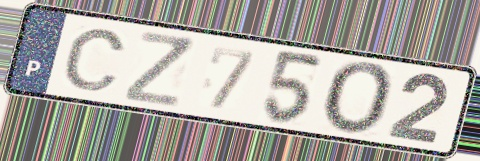2: (384, 70, 453, 148)
5: (258, 46, 327, 128)
7: (205, 45, 257, 111)
C: (60, 26, 129, 93)
O: (320, 59, 399, 139)
Z: (122, 28, 197, 110)
